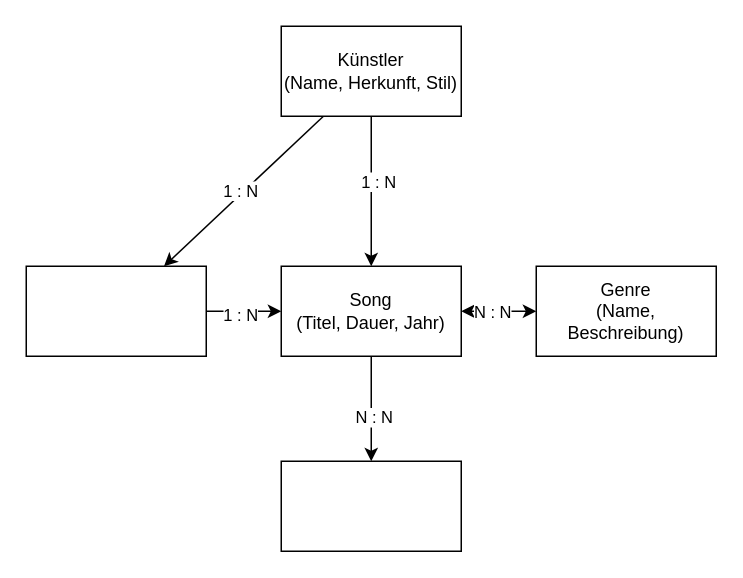
The diagram is 743 pixels wide and 578 high, and some of its shapes have lost their labels. The shapes that lost their labels are listed below. From the top down, each one's centre as x and y in pixels, then its label:
(115,310): Album (Titel, Jahr, Label)
(370,505): Playlist (Name, Erstellt am)
